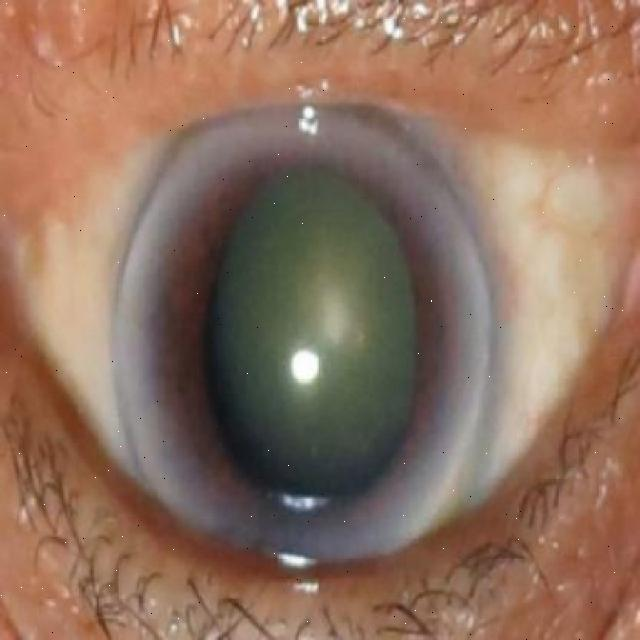Cataract: (116, 94, 490, 578)
